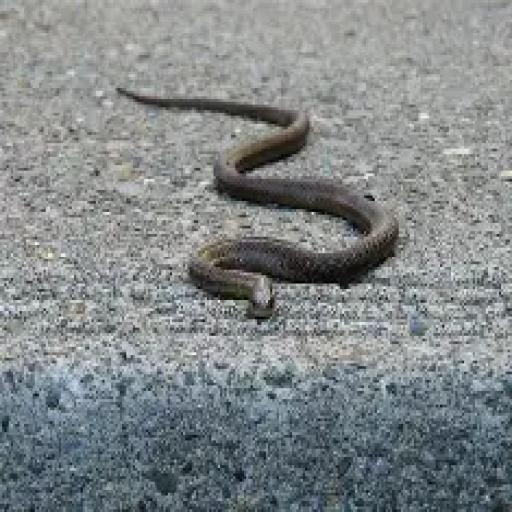snake: (118, 89, 398, 319)
